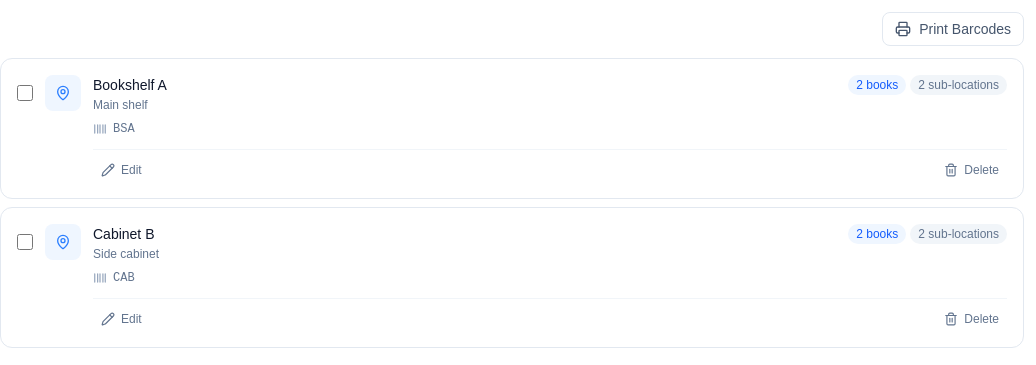
Test case: LocationsList — checkbox selection › shows selected count in button label after one checkbox is ticked
Click the checkbox named "select bookshelf a": click(25, 93) x1=17 y1=85 x2=33 y2=101
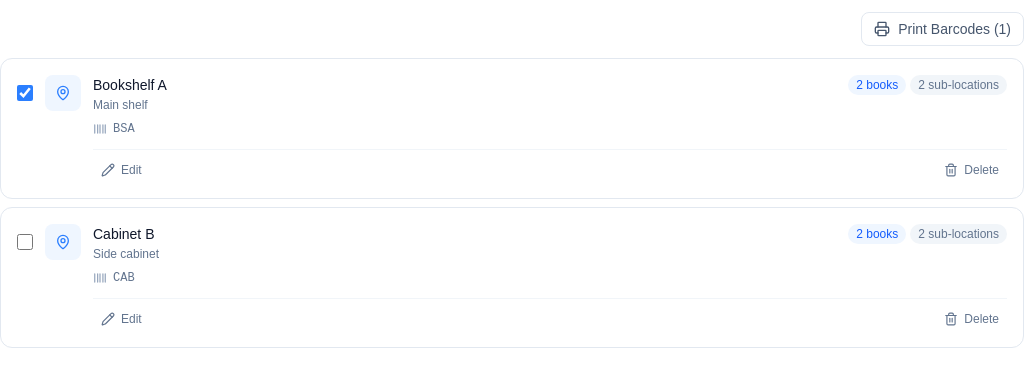
Result: the button "Print Barcodes (1)" is shown at x1=861 y1=12 x2=1024 y2=46
